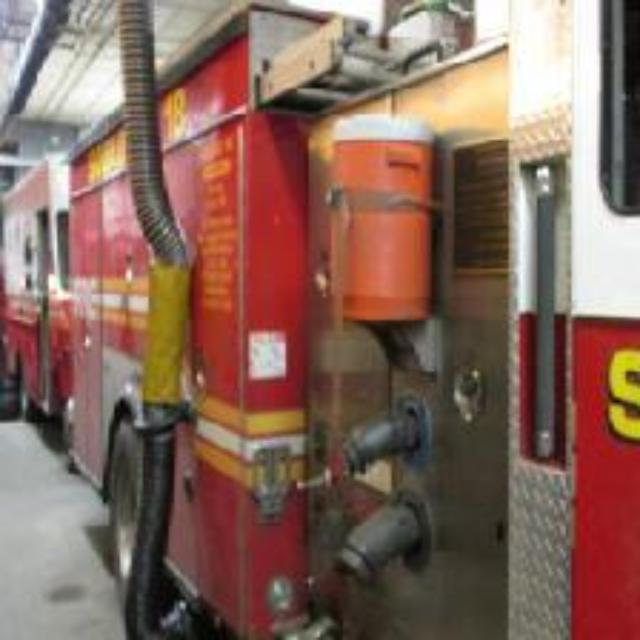emergency: (14, 18, 494, 640)
